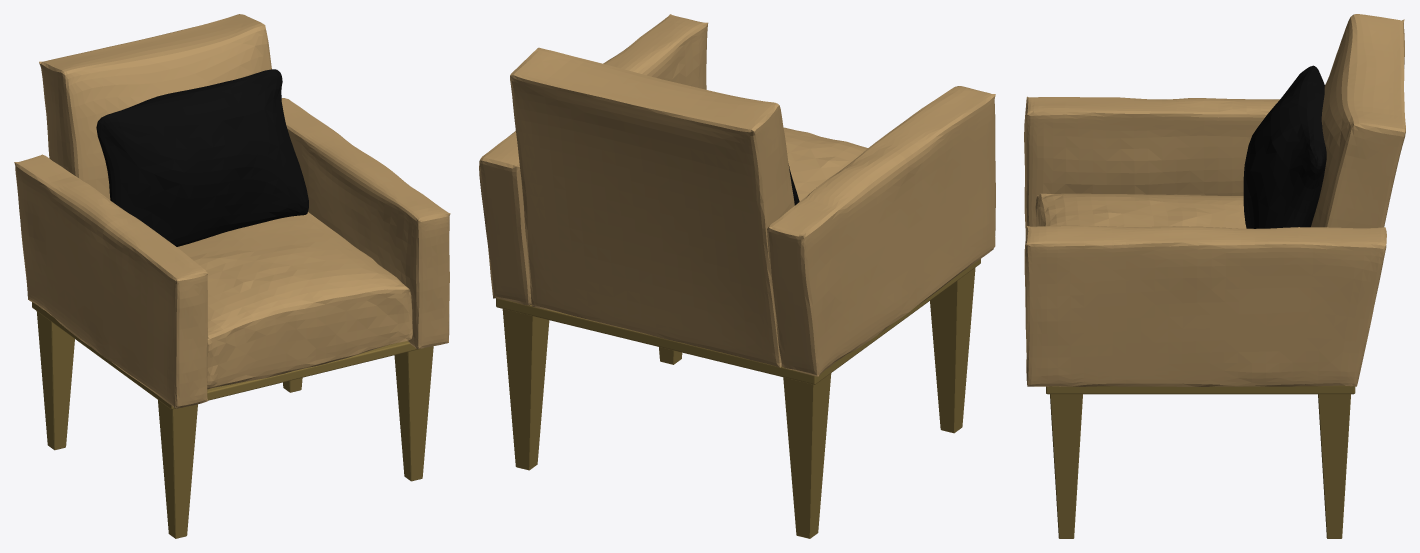
File: Poltrona1.FBX
3 views of the same model, side by side, from view 1: azimuth 30°, elevation 25°; view 2: azimuth 150°, elevation 25°; view 3: azimuth 270°, elevation 25° (orthographic). The views are drawn at different scales.
Parts seen in each view (by area): view 1: Poltrona, Almofada, Pernas; view 2: Poltrona, Pernas; view 3: Poltrona, Almofada, Pernas.
Boxes of the visible parts, x1,y1,x2,y2 form: Poltrona: (14, 14, 450, 408); Almofada: (96, 69, 308, 246); Pernas: (32, 302, 433, 538); Poltrona: (479, 14, 995, 376); Pernas: (496, 259, 980, 538); Poltrona: (1024, 14, 1405, 386); Almofada: (1243, 65, 1326, 228); Pernas: (1046, 385, 1355, 538).
Bounding box in the file's own units: 24.86 × 31.34 × 26.88.
